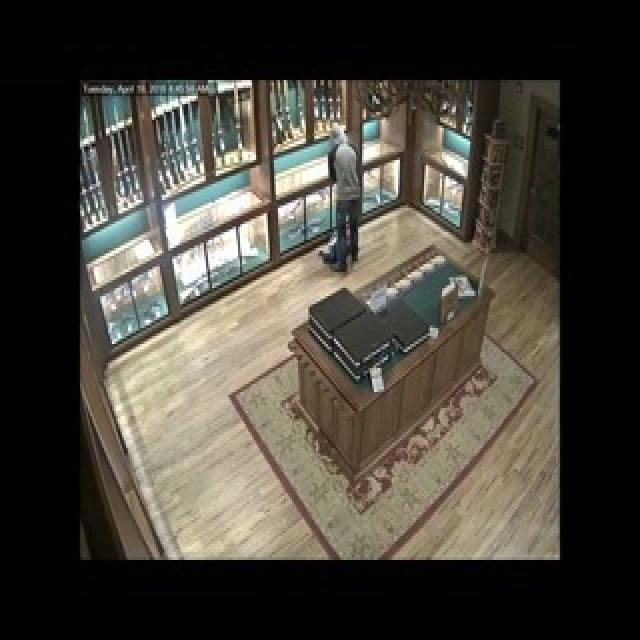thief: (326, 120, 362, 269)
